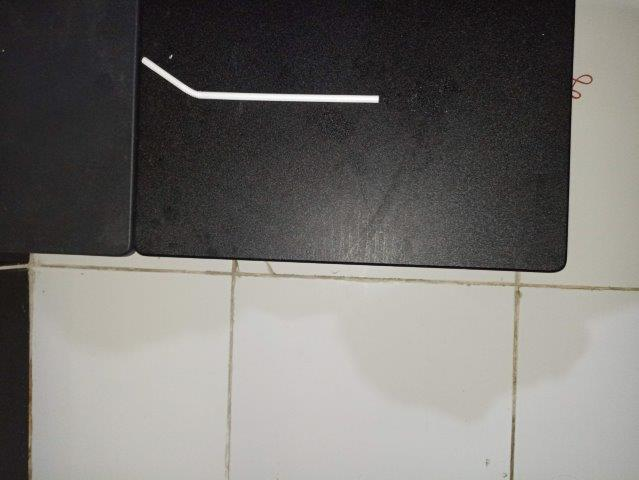karet: (573, 74, 593, 97)
sedotan: (141, 56, 378, 101)
